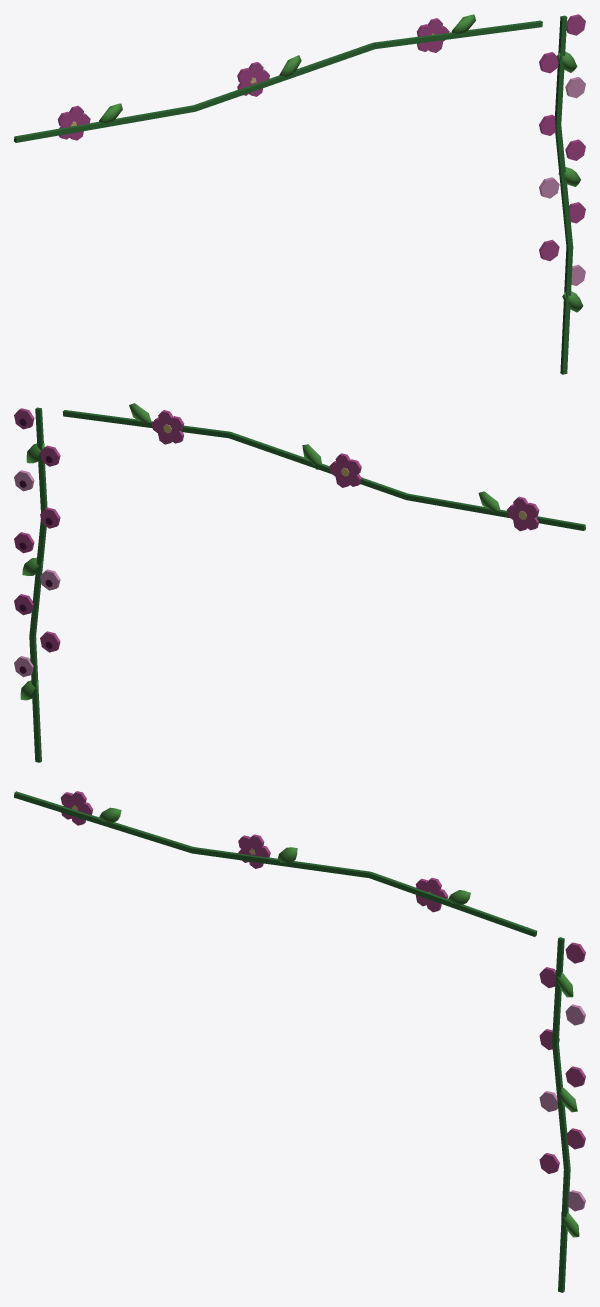
Rendered from motif_table_foxglove.glb.
3 renders of one model, top to bottom at view 1: azimuth 30°, elevation 25°; view 2: azimuth 150°, elevation 25°; view 3: azimuth 330°, elevation 25°, orthographic.
Parts seen in each view (by area): view 1: motif_table_foxglove; view 2: motif_table_foxglove; view 3: motif_table_foxglove.
Part boxes in pixels (left/top/right/bottom): motif_table_foxglove: left=14, top=14, right=585, bottom=374; motif_table_foxglove: left=14, top=403, right=585, bottom=762; motif_table_foxglove: left=14, top=791, right=585, bottom=1292.
Bounding box in the file's own units: 0.9579 × 0.6158 × 0.0178.
